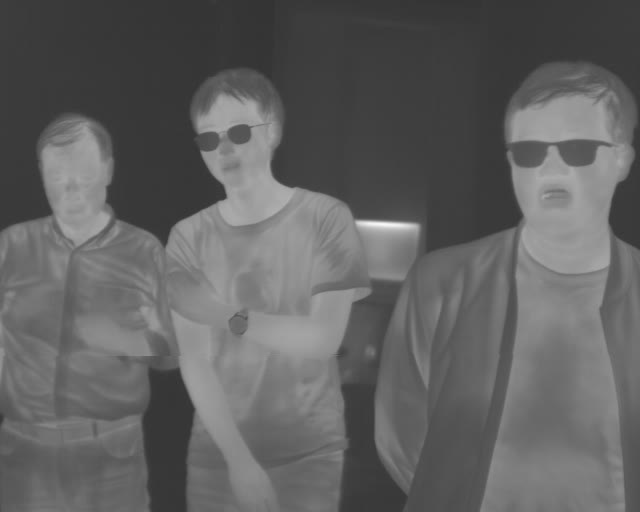face: (502, 59, 636, 240), (186, 65, 284, 186), (36, 112, 115, 228)
